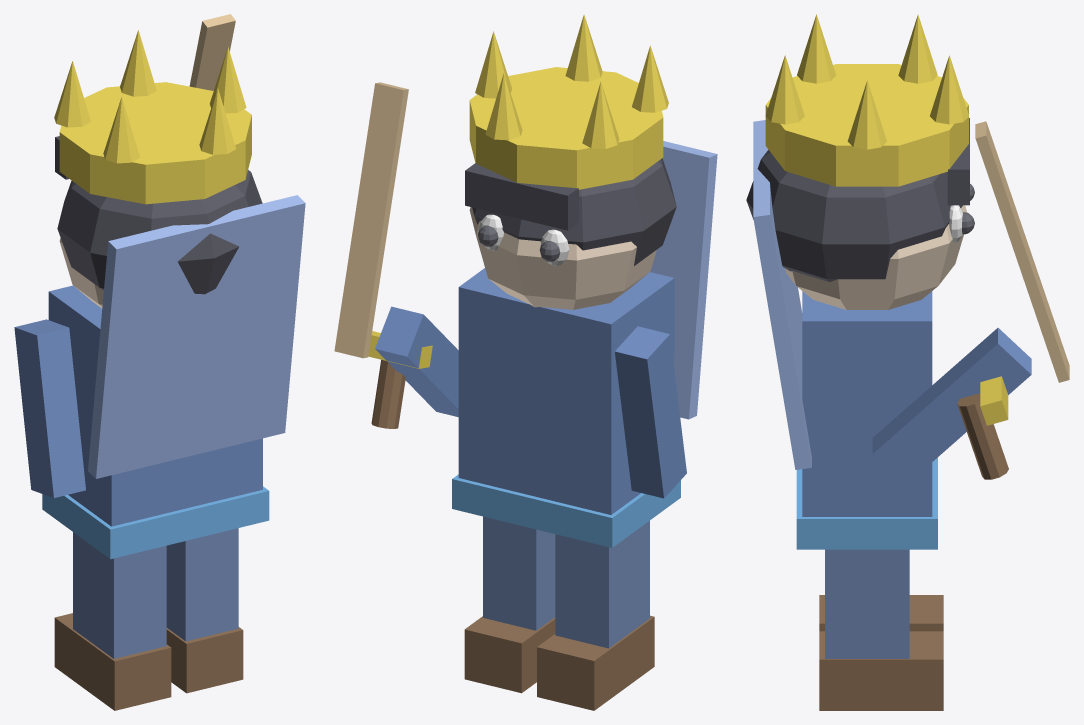
The model's file is little_prince.glb.
3 renders of one model, left to right at view 1: azimuth 30°, elevation 25°; view 2: azimuth 150°, elevation 25°; view 3: azimuth 270°, elevation 25°, orthographic. The views are drawn at different scales.
Parts seen in each view (by area): view 1: little_prince; view 2: little_prince; view 3: little_prince.
Part boxes in pixels (bbox=[...]): little_prince: bbox=[14, 14, 305, 710]; little_prince: bbox=[334, 14, 717, 710]; little_prince: bbox=[746, 14, 1069, 710].
Size of the model in its own units: 1.14 by 2.48 by 1.15.
